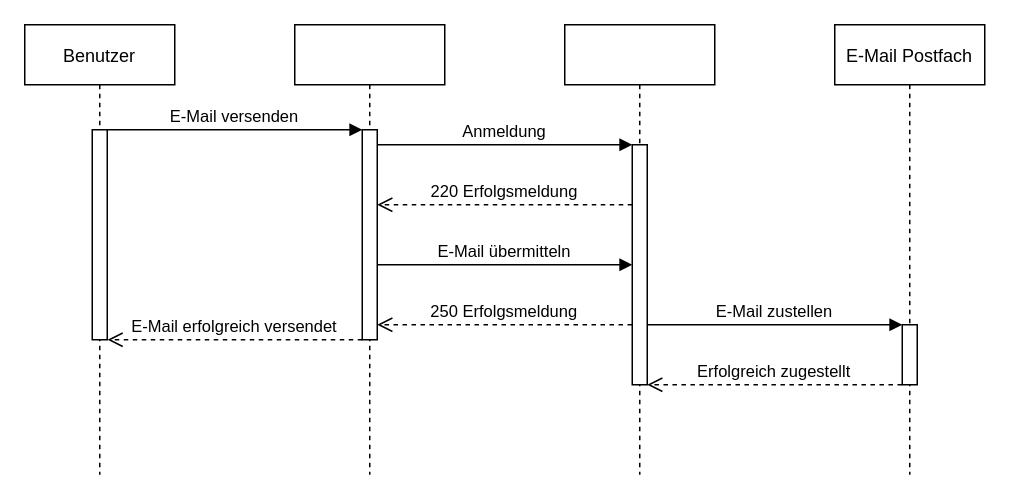
The diagram is 1010 pixels wide and 500 high, and some of its shapes have lost their labels. The box of each missing label's shape, as (x1, y1, x2, y2) in pixels:
Cleverworks: (293, 23, 445, 475)
SMTP Server: (563, 23, 715, 475)
